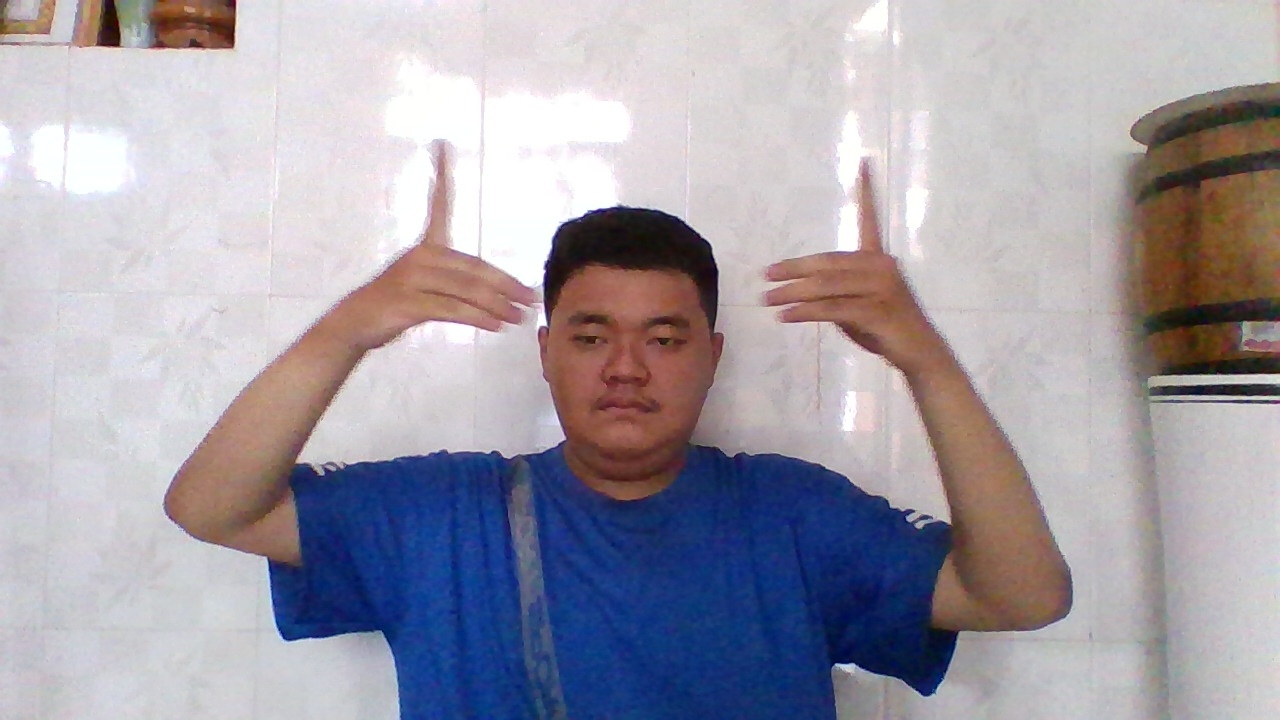D: (331, 132, 544, 353), (748, 148, 943, 379)
